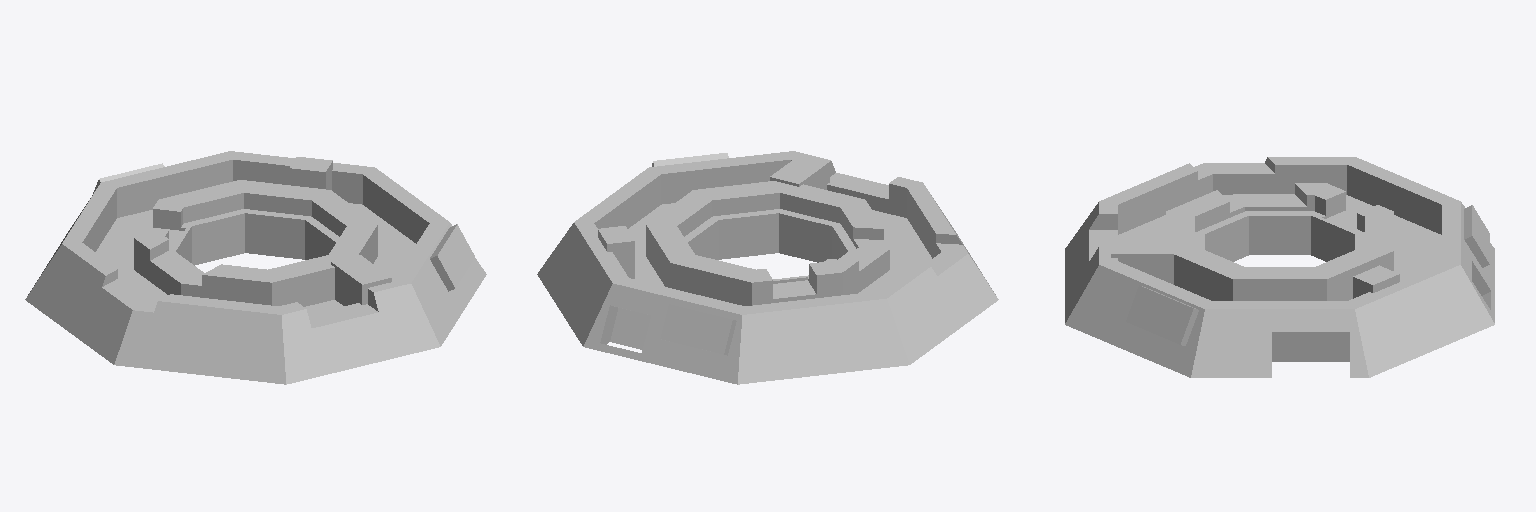
The model's file is Well.obj.
3 renders of one model, left to right at view 1: azimuth 30°, elevation 25°; view 2: azimuth 150°, elevation 25°; view 3: azimuth 270°, elevation 25°, orthographic.
Visible parts, largest first — view 1: New_Well_; view 2: New_Well_; view 3: New_Well_.
Part boxes in pixels (x1,y1,x2,y2): New_Well_: (25,151,486,384); New_Well_: (537,151,998,384); New_Well_: (1065,157,1494,377).
Size of the model in its own units: 5.31 by 0.8462 by 5.31.